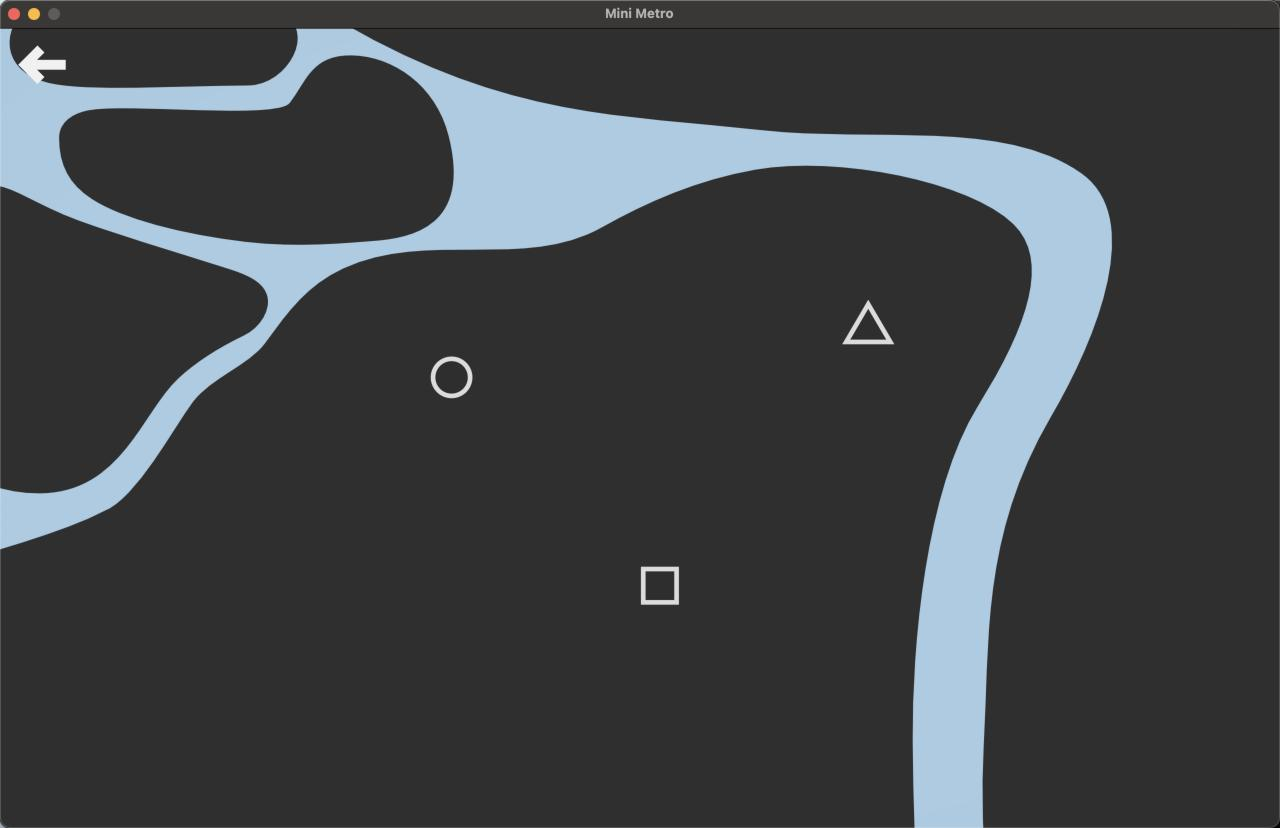CIRCLE: (430, 355, 474, 399)
SQUARE: (641, 566, 679, 605)
TRIANGLE: (841, 299, 895, 346)
